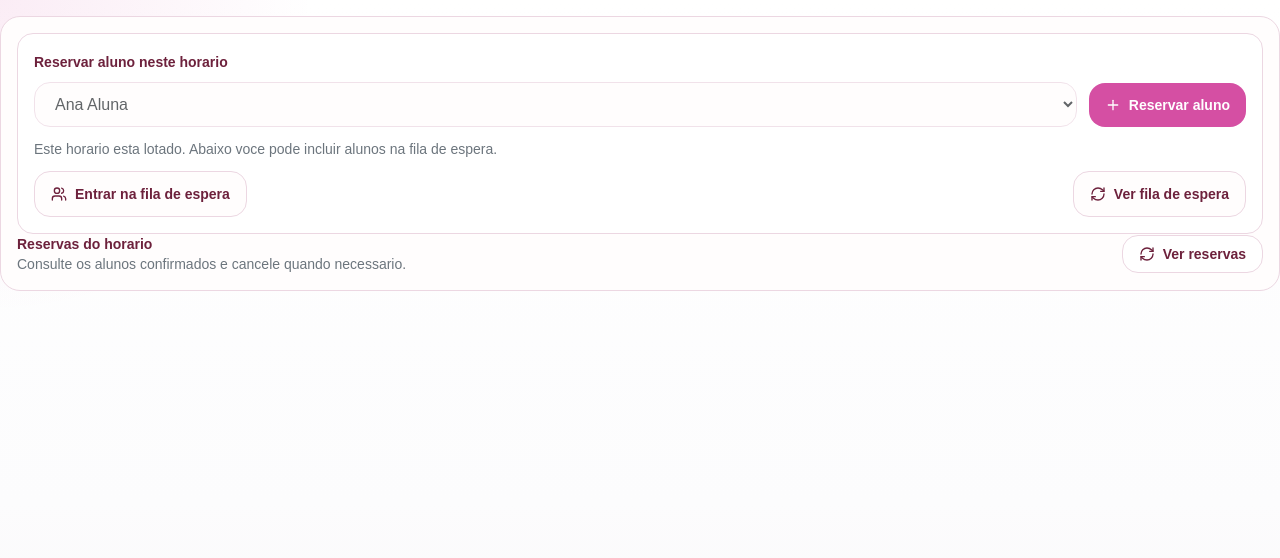
Test: SlotBookingsPanel › remarca reserva para outro horario disponivel no dia
What coordinates should you click on to do the following:
click the button "Ver reservas"
I would click on:
 (1192, 254)
Its box is [1122,235,1263,273].
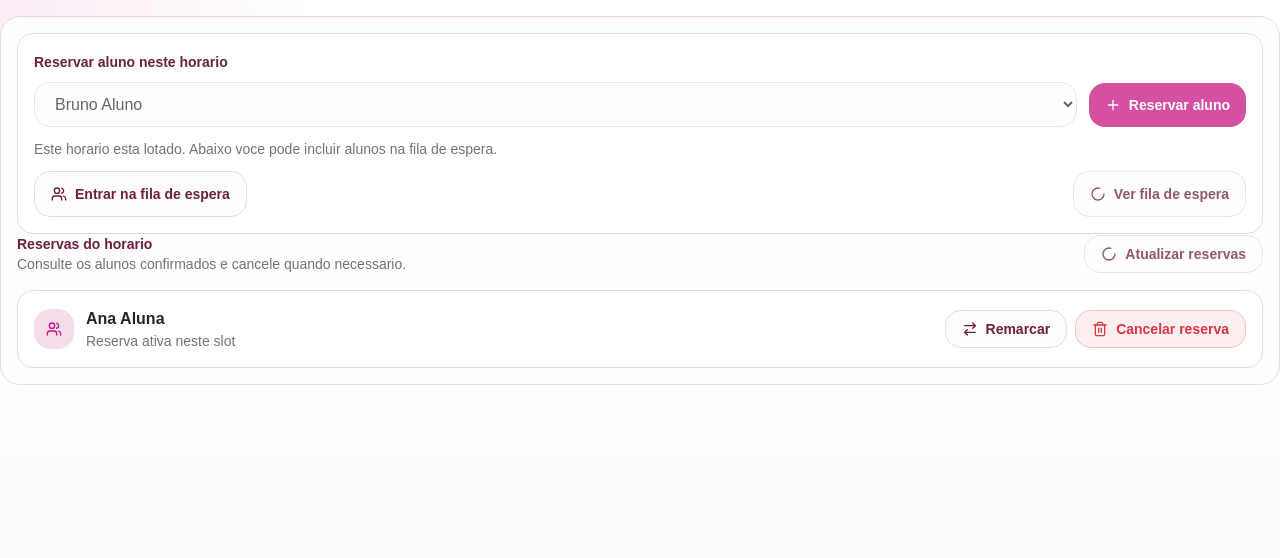
Check: the text "Reserva ativa neste slot" is shown, box [86,331,235,351]
What coordinates should you click on to do the following:
click the button "Remarcar"
I would click on:
 (1006, 329)
Its box is [944,310,1067,348].
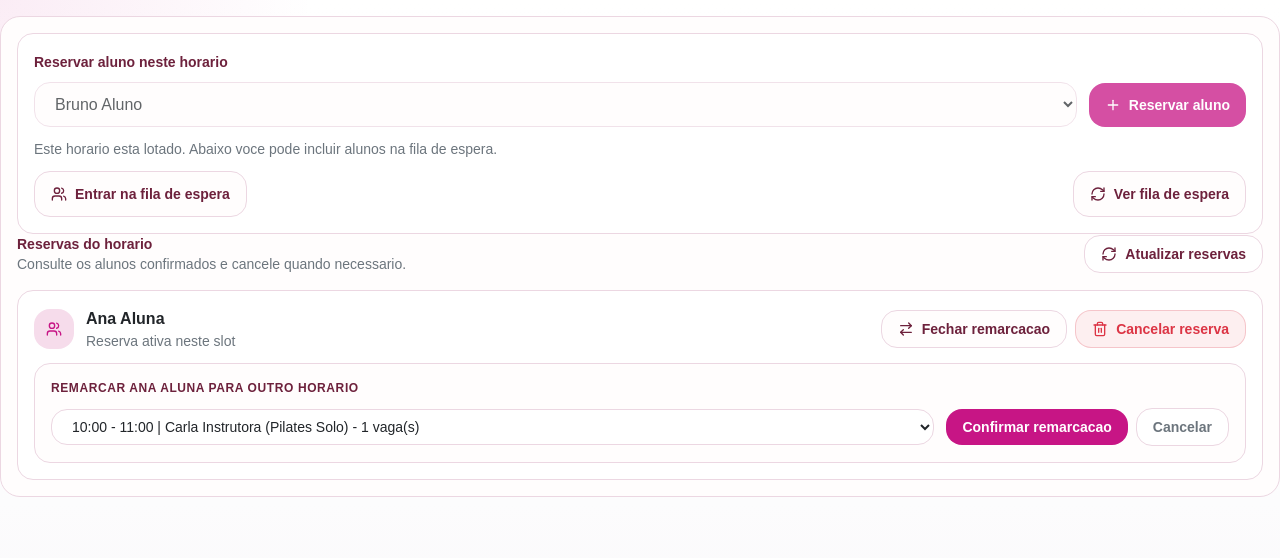
Check: the dropdown named "Novo horario para Ana Aluna" is shown, box [51,409,934,445]
What coordinates should you click on to do the following:
click the button "Confirmar remarcacao"
I would click on:
 (1037, 427)
Its box is [946,409,1128,445].
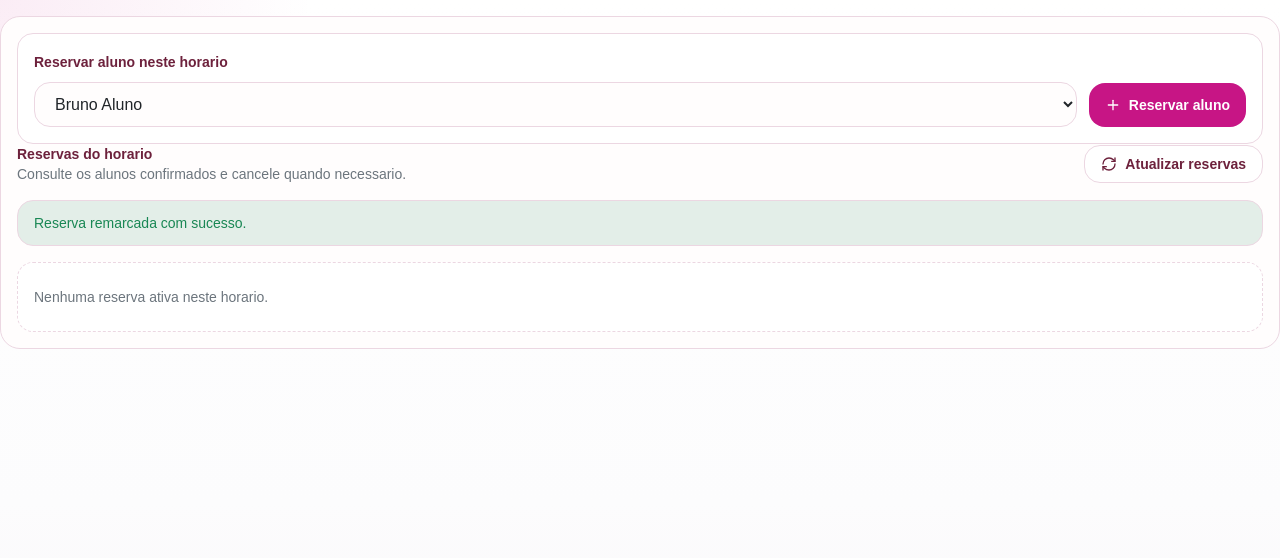
Check: the text "Reserva remarcada com sucesso." is shown, box [17,200,1263,246]
Check: the text "Nenhuma reserva ativa neste horario." is shown, box [17,262,1263,332]
